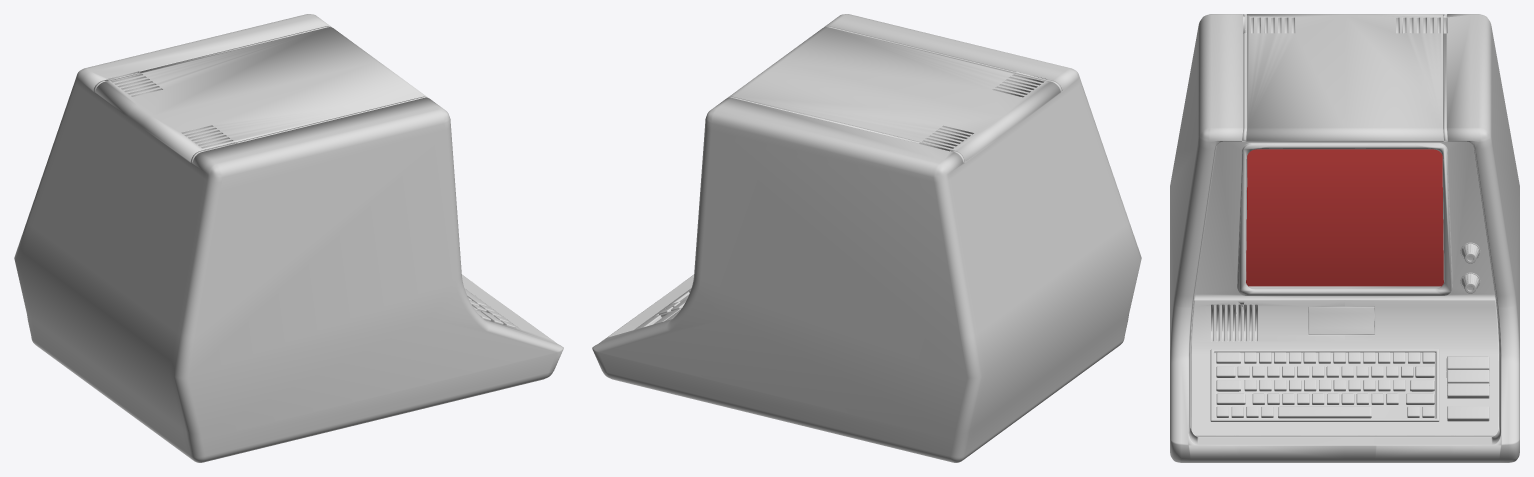
The model's file is 05.04+monitor.glb.
3 views of the same model, side by side, from view 1: azimuth 30°, elevation 25°; view 2: azimuth 150°, elevation 25°; view 3: azimuth 270°, elevation 25° (orthographic). The views are drawn at different scales.
Visible parts, largest first — view 1: Cube.005; view 2: Cube.005; view 3: Cube.005, Cube.006.
Boxes of the visible parts, x1,y1,x2,y2 form: Cube.005: (14, 14, 563, 462); Cube.005: (592, 14, 1141, 462); Cube.005: (1170, 14, 1519, 462); Cube.006: (1246, 149, 1443, 288).
Bounding box in the file's own units: 3.22 × 2.22 × 2.42.
